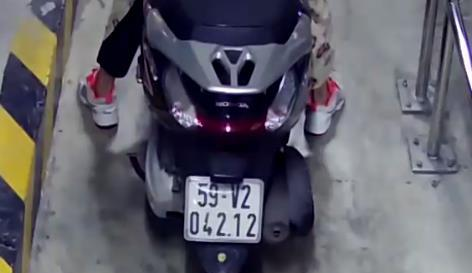lisence: (184, 176, 265, 244)
